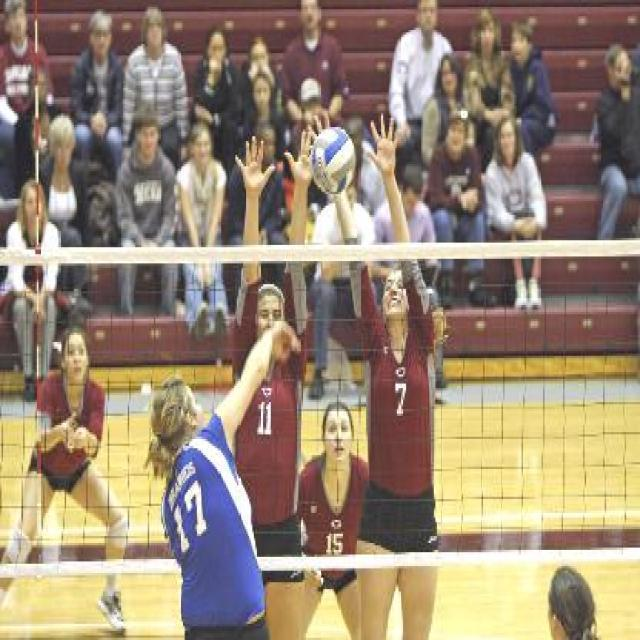volleyball: (311, 126, 355, 194)
